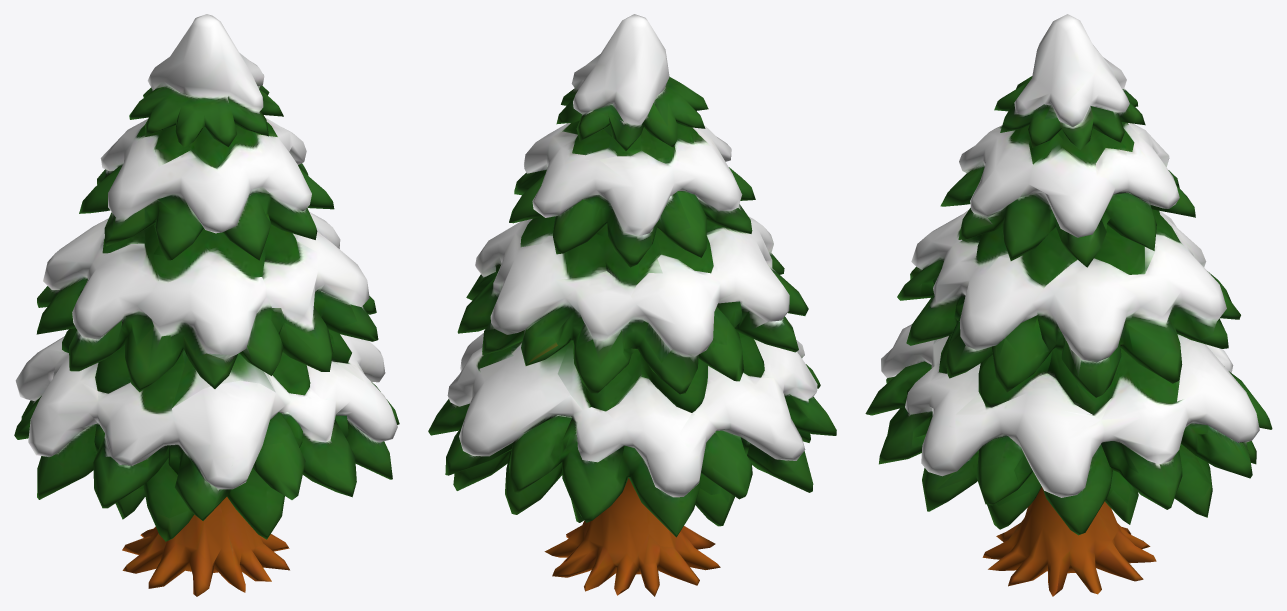
The model's file is pine_snow_b.glb.
3 views of the same model, side by side, from view 1: azimuth 30°, elevation 25°; view 2: azimuth 150°, elevation 25°; view 3: azimuth 270°, elevation 25° (orthographic).
Parts seen in each view (by area): view 1: tripo_node_a990c8d3-c5a7-4278-8b49-a7e2785dc1c7; view 2: tripo_node_a990c8d3-c5a7-4278-8b49-a7e2785dc1c7; view 3: tripo_node_a990c8d3-c5a7-4278-8b49-a7e2785dc1c7.
Part boxes in pixels (left/top/right/bottom): tripo_node_a990c8d3-c5a7-4278-8b49-a7e2785dc1c7: left=14, top=14, right=399, bottom=596; tripo_node_a990c8d3-c5a7-4278-8b49-a7e2785dc1c7: left=428, top=14, right=836, bottom=596; tripo_node_a990c8d3-c5a7-4278-8b49-a7e2785dc1c7: left=865, top=14, right=1272, bottom=596.
Bounding box in the file's own units: 3.32 × 5 × 3.39.
1 material, 1 textured.
